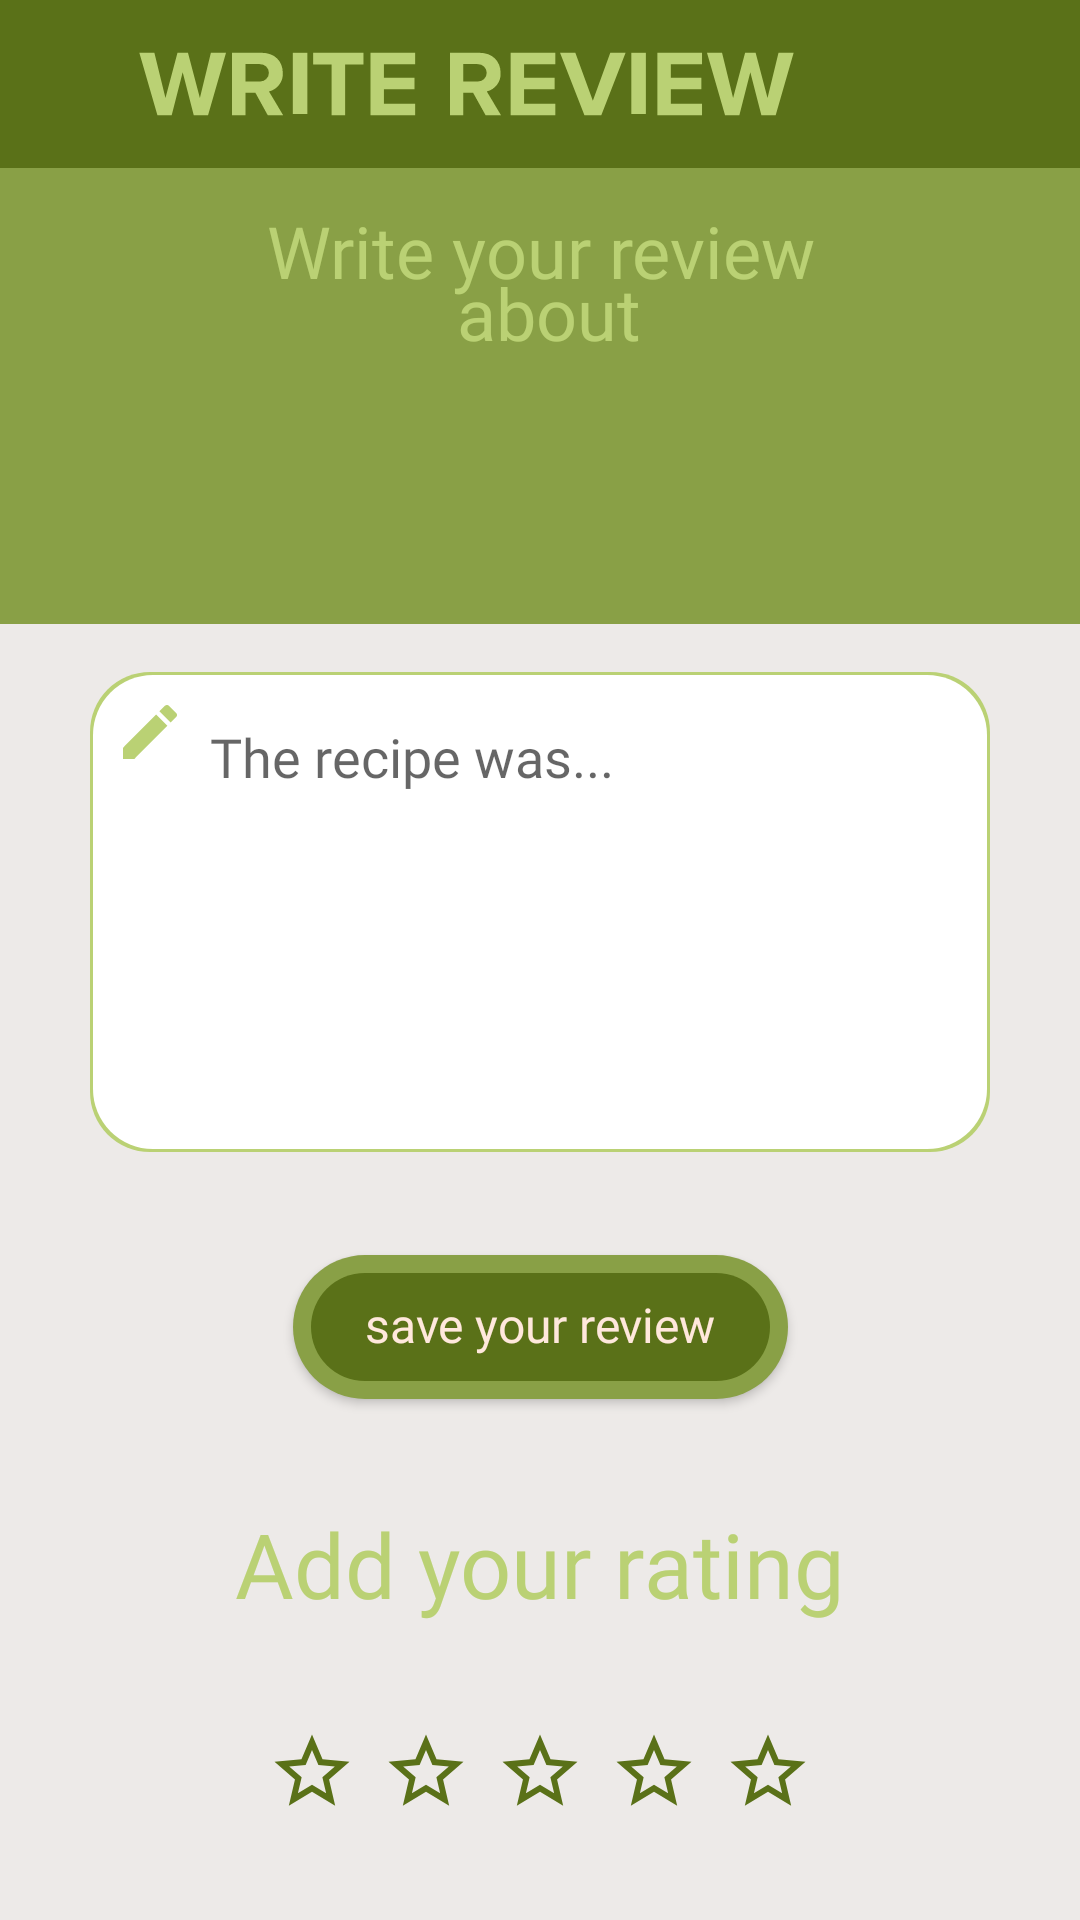

Locate icon controls on the screen. Image size 1080x1920, boxes as (x1, y1, x2, y2).
create: (123, 705, 177, 759)
give 3 stars to recipe: (503, 1735, 577, 1806)
give one star to recipe: (275, 1735, 349, 1806)
give recipe 4 stars: (617, 1735, 691, 1806)
give recipe 5 stars: (731, 1735, 805, 1806)
give two stars to recipe: (389, 1735, 463, 1806)
